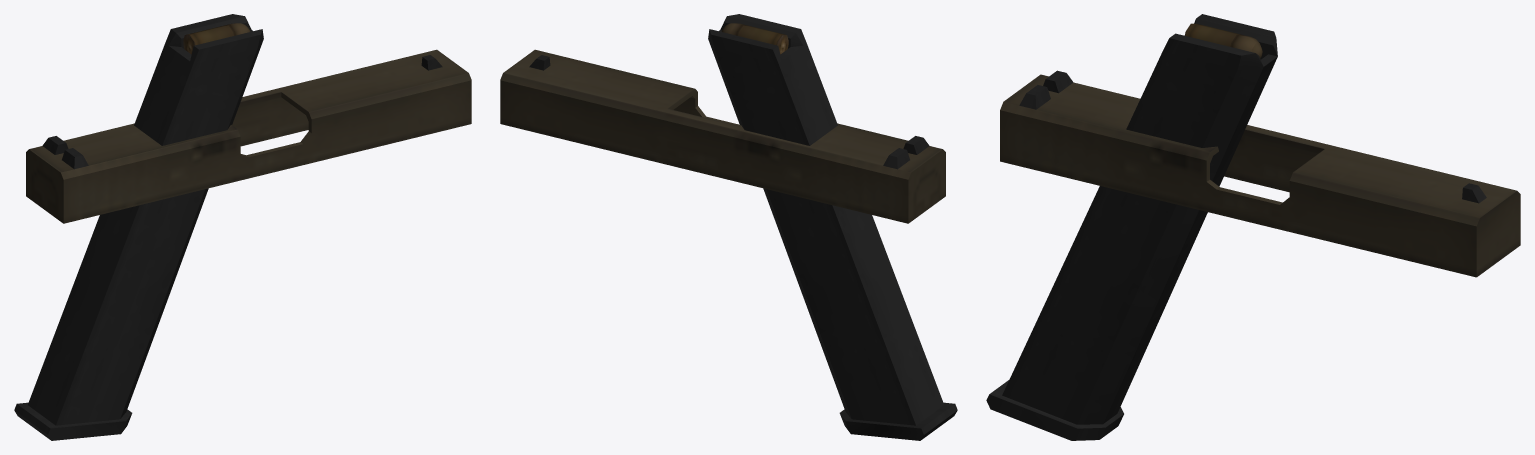
The model's file is pistol_mp_1_1.obj.
The picture shows the model from 3 angles, left to right: view 1: azimuth 30°, elevation 25°; view 2: azimuth 150°, elevation 25°; view 3: azimuth 330°, elevation 25°; orthographic projection. The views are drawn at different scales.
Visible parts, largest first — view 1: pistol_mp_1_1_mag_initial, pistol_mp_1_1_slide; view 2: pistol_mp_1_1_mag_initial, pistol_mp_1_1_slide; view 3: pistol_mp_1_1_slide, pistol_mp_1_1_mag_initial.
Boxes of the visible parts, <box> form: pistol_mp_1_1_mag_initial: <box>14,14,263,440</box>; pistol_mp_1_1_slide: <box>26,49,471,223</box>; pistol_mp_1_1_mag_initial: <box>708,14,957,440</box>; pistol_mp_1_1_slide: <box>500,49,945,223</box>; pistol_mp_1_1_slide: <box>1000,70,1520,277</box>; pistol_mp_1_1_mag_initial: <box>986,14,1277,440</box>.
Size of the model in its own units: 265 by 221 by 40.96.
2 materials, 2 textured.
